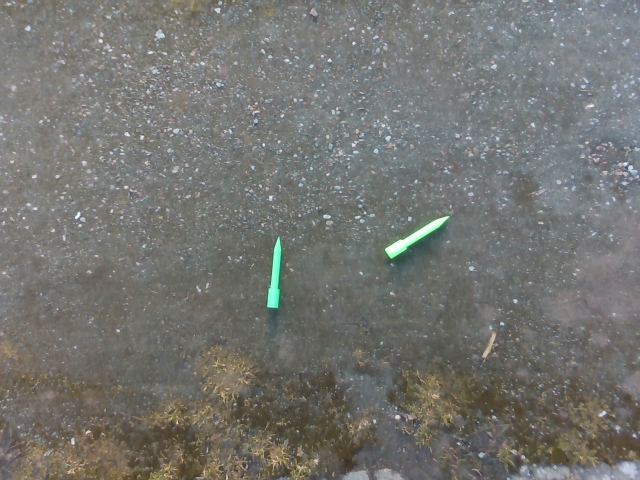Probe: (380, 212, 455, 266), (263, 232, 292, 315)
